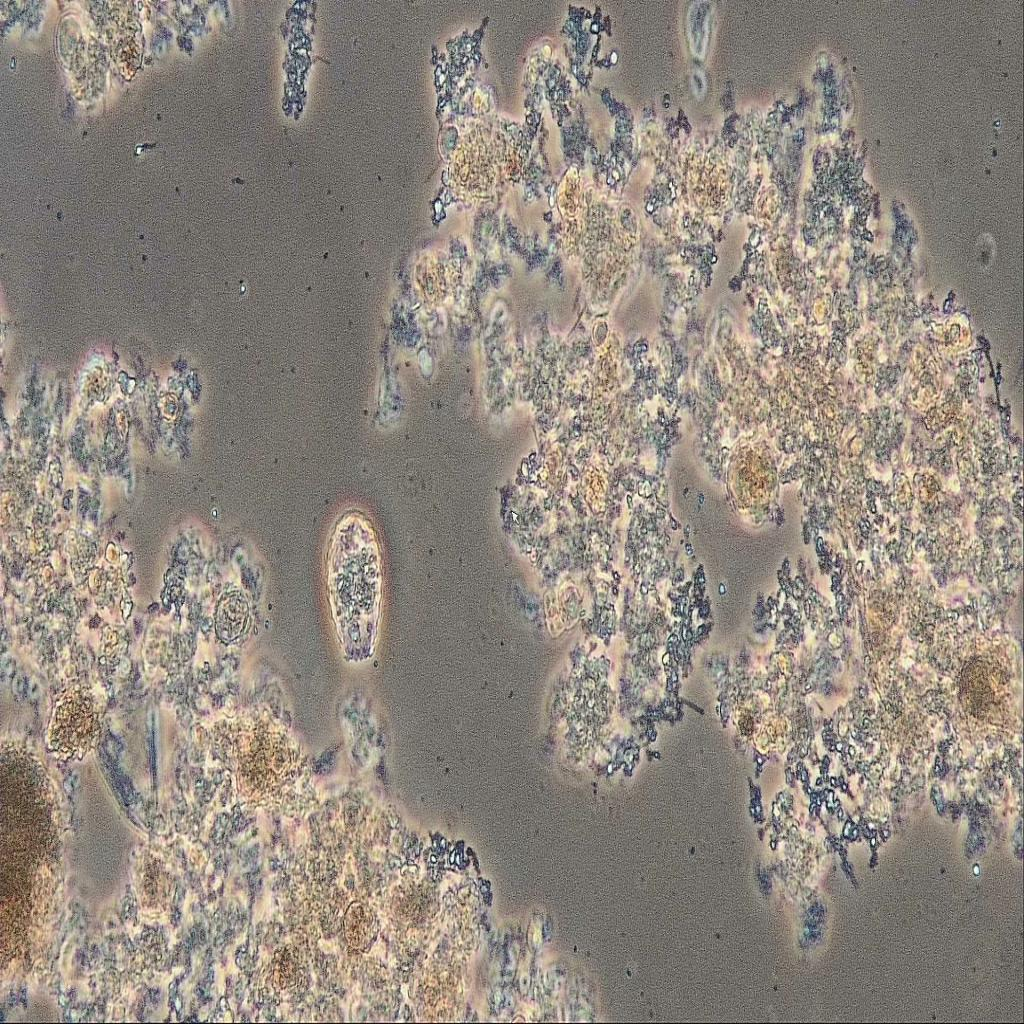Euglypha: (298, 455, 408, 691)
